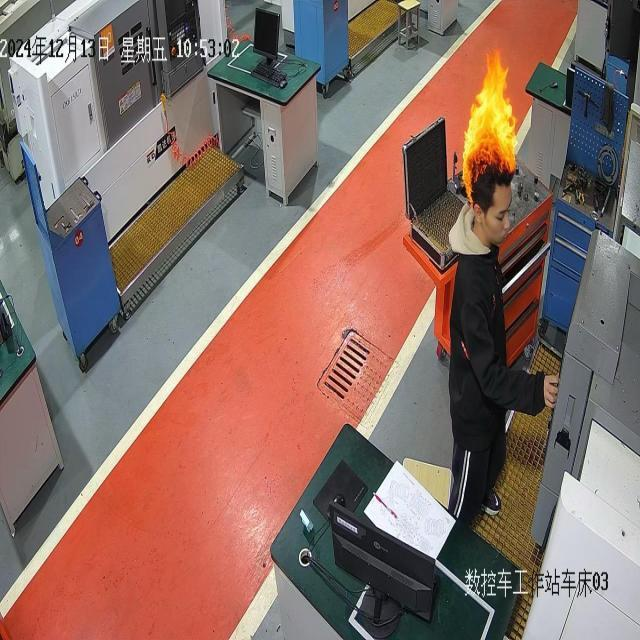smoke: (460, 45, 520, 198)
